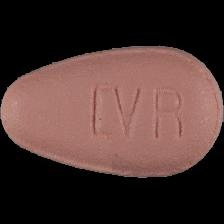68151-4349: (0, 0, 224, 224)
